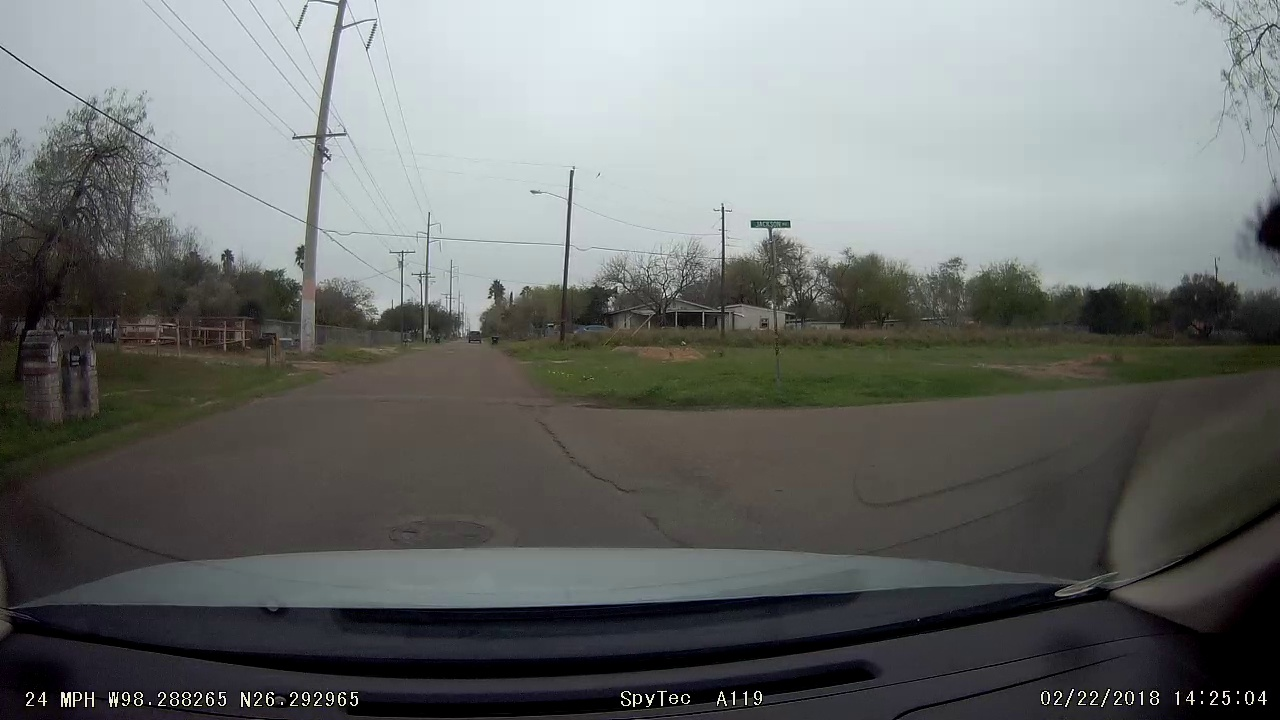crack: (506, 406, 684, 503)
manhole: (382, 510, 500, 548)
